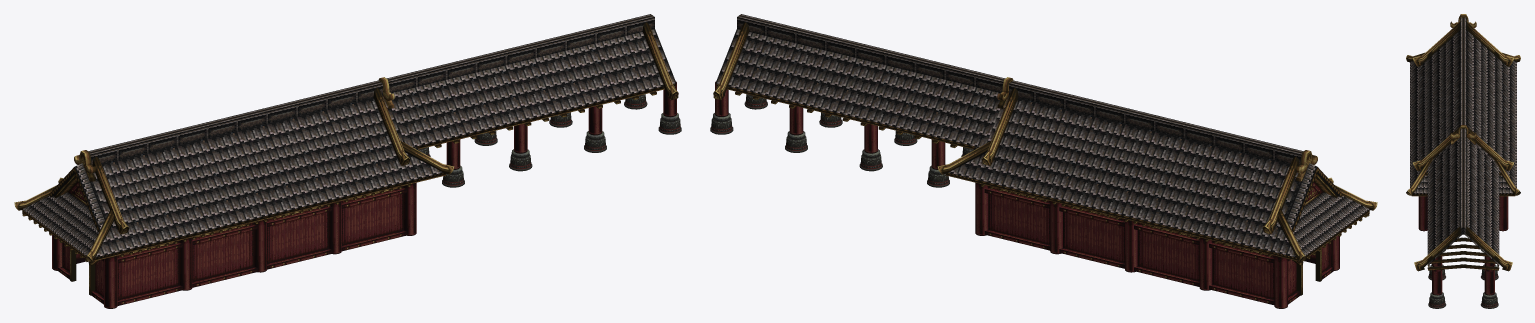
Rendered from EnvBdgMD_Desert_A_TreasureRoom_Outdoor.FBX.
3 renders of one model, left to right at view 1: azimuth 30°, elevation 25°; view 2: azimuth 150°, elevation 25°; view 3: azimuth 270°, elevation 25°, orthographic. The views are drawn at different scales.
Parts seen in each view (by area): view 1: EnvBdgMD_Desert_A_TreasureRoom_Outdoor; view 2: EnvBdgMD_Desert_A_TreasureRoom_Outdoor; view 3: EnvBdgMD_Desert_A_TreasureRoom_Outdoor.
Boxes of the visible parts, bbox=[...] form: EnvBdgMD_Desert_A_TreasureRoom_Outdoor: bbox=[14, 14, 681, 308]; EnvBdgMD_Desert_A_TreasureRoom_Outdoor: bbox=[710, 14, 1377, 308]; EnvBdgMD_Desert_A_TreasureRoom_Outdoor: bbox=[1406, 14, 1520, 308].
Bounding box in the file's own units: 4101 × 865 × 874.
